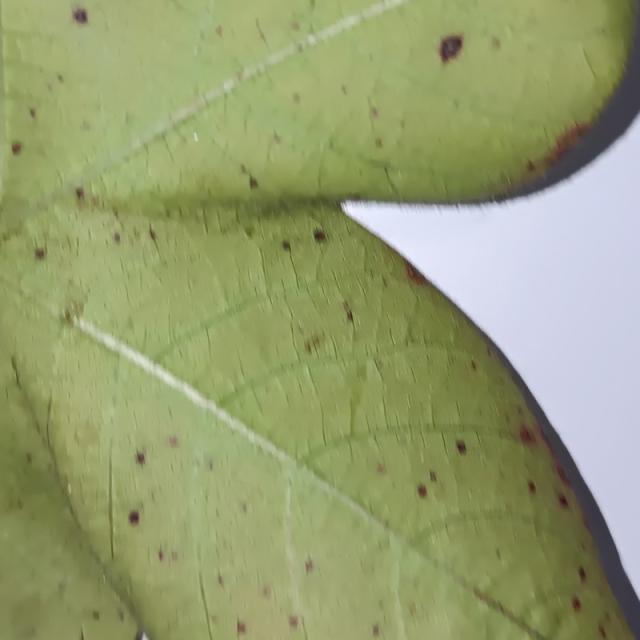Bacterial_Blight: (499, 113, 604, 186), (405, 460, 458, 507), (428, 23, 470, 72), (156, 543, 179, 565), (240, 163, 258, 188), (537, 428, 553, 453), (306, 333, 325, 353), (254, 18, 267, 44), (72, 7, 89, 25), (557, 465, 570, 485), (519, 426, 534, 443), (404, 262, 418, 280), (63, 307, 75, 325), (313, 228, 327, 243), (128, 510, 140, 525), (416, 483, 428, 498), (455, 439, 467, 454), (135, 451, 146, 466), (558, 493, 569, 508), (11, 142, 22, 155), (344, 308, 354, 322), (75, 187, 85, 201), (304, 559, 314, 573), (572, 596, 581, 611), (578, 566, 587, 581), (598, 623, 607, 638), (34, 248, 45, 260), (168, 435, 178, 448), (491, 36, 501, 49), (237, 620, 246, 634), (526, 160, 536, 172), (376, 462, 386, 474), (527, 481, 536, 494), (289, 615, 298, 628), (149, 228, 157, 242), (409, 602, 417, 616), (281, 240, 291, 251), (81, 120, 91, 131), (262, 586, 271, 598), (372, 623, 380, 636), (292, 93, 301, 104), (273, 132, 281, 144), (429, 470, 437, 482), (215, 25, 223, 37), (25, 452, 33, 464), (157, 549, 164, 562), (207, 458, 214, 471), (291, 21, 300, 31), (113, 232, 121, 243), (340, 84, 348, 95), (92, 610, 100, 621), (241, 501, 248, 513), (217, 575, 224, 587), (29, 108, 37, 118), (375, 138, 383, 148), (470, 360, 477, 371), (56, 74, 64, 83), (371, 107, 378, 117)
Cotton: (0, 0, 635, 639)
